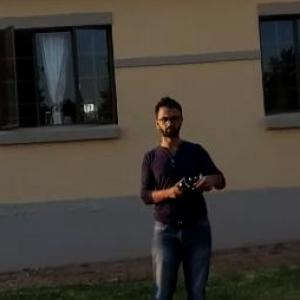follow: (137, 87, 234, 299)
